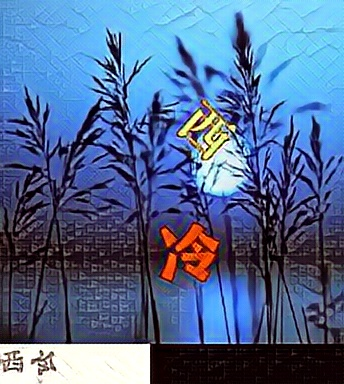C0E4: (158, 221, 220, 285)
CEF7: (174, 100, 236, 164)
